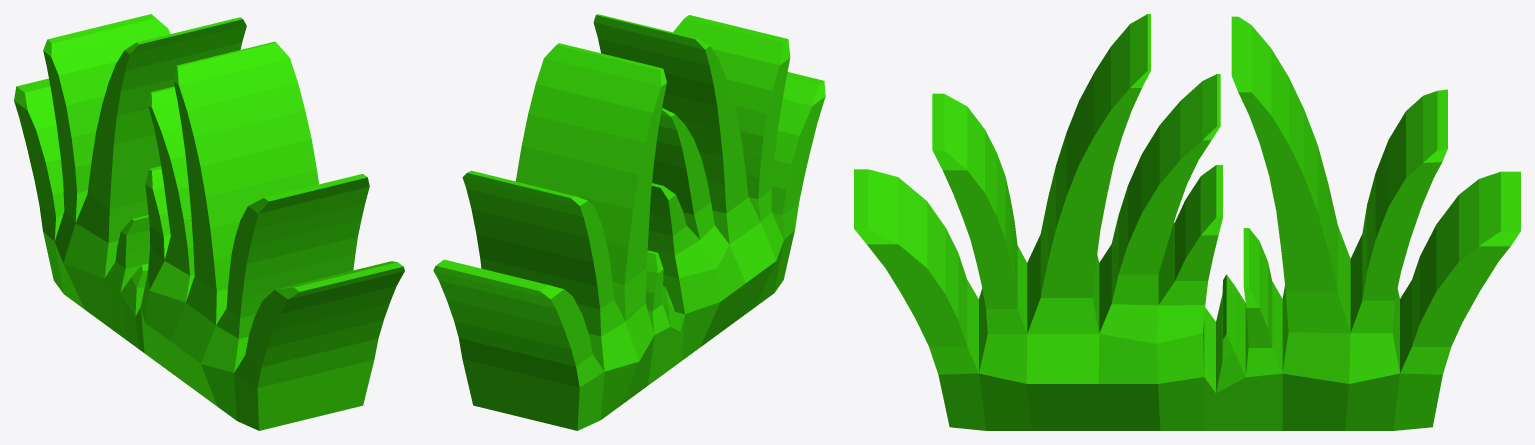
Rendered from grama3.fbx.
The picture shows the model from 3 angles, left to right: view 1: azimuth 30°, elevation 25°; view 2: azimuth 150°, elevation 25°; view 3: azimuth 270°, elevation 25°; orthographic projection. The views are drawn at different scales.
Parts seen in each view (by area): view 1: Cubo.001; view 2: Cubo.001; view 3: Cubo.001.
Boxes of the visible parts, left/top/right/bottom form: Cubo.001: left=14, top=14, right=404, bottom=430; Cubo.001: left=433, top=14, right=825, bottom=430; Cubo.001: left=854, top=14, right=1520, bottom=430.
Bounding box in the file's own units: 26.45 × 48.96 × 83.33.
